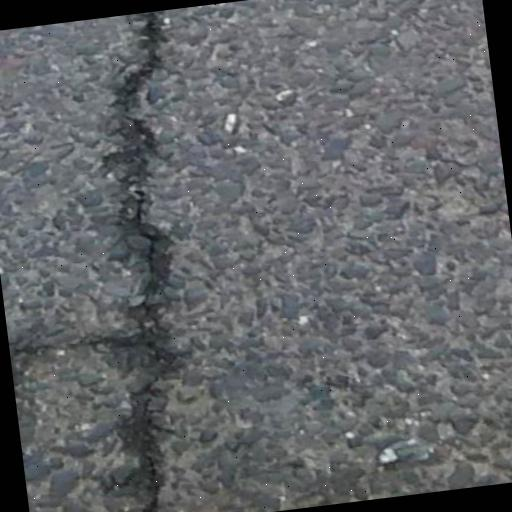spalling: (111, 20, 200, 512)
